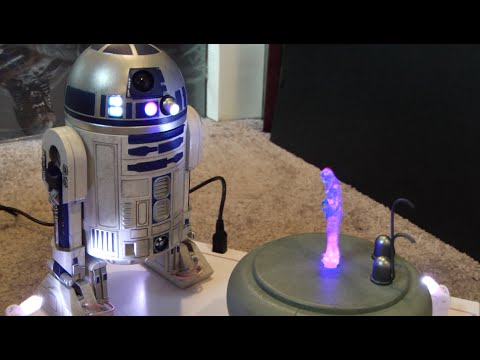r2d2: (41, 43, 215, 314)
